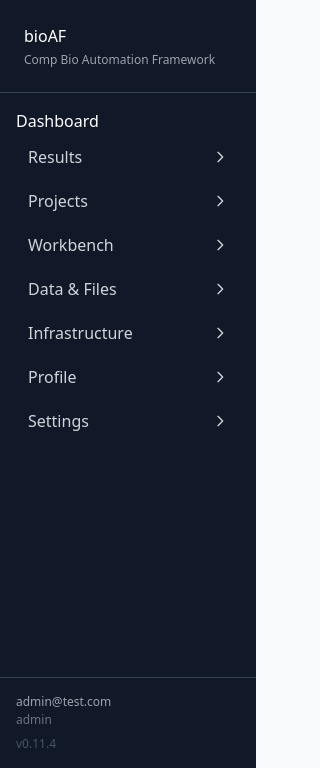
Test case: Sidebar component gating › hides QC Dashboards when qc_dashboard component is not enabled
Click the button "Results" at point(128, 157), box [16,137,240,177]
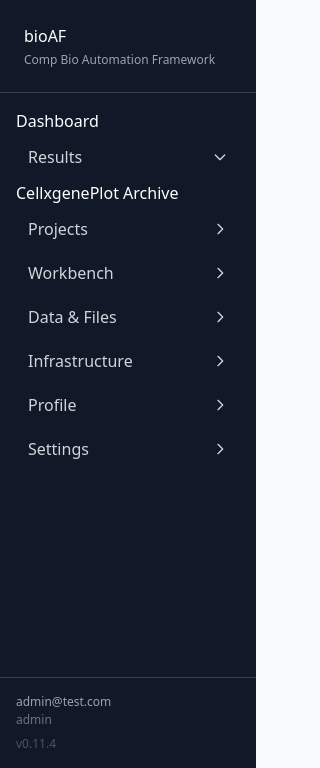
Check: the link "Cellxgene" is shown, box [16,182,90,204]
